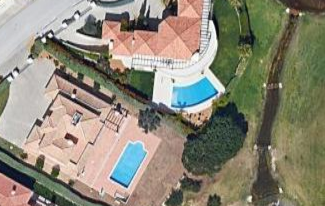pool: (171, 85, 224, 104), (119, 142, 143, 183)
